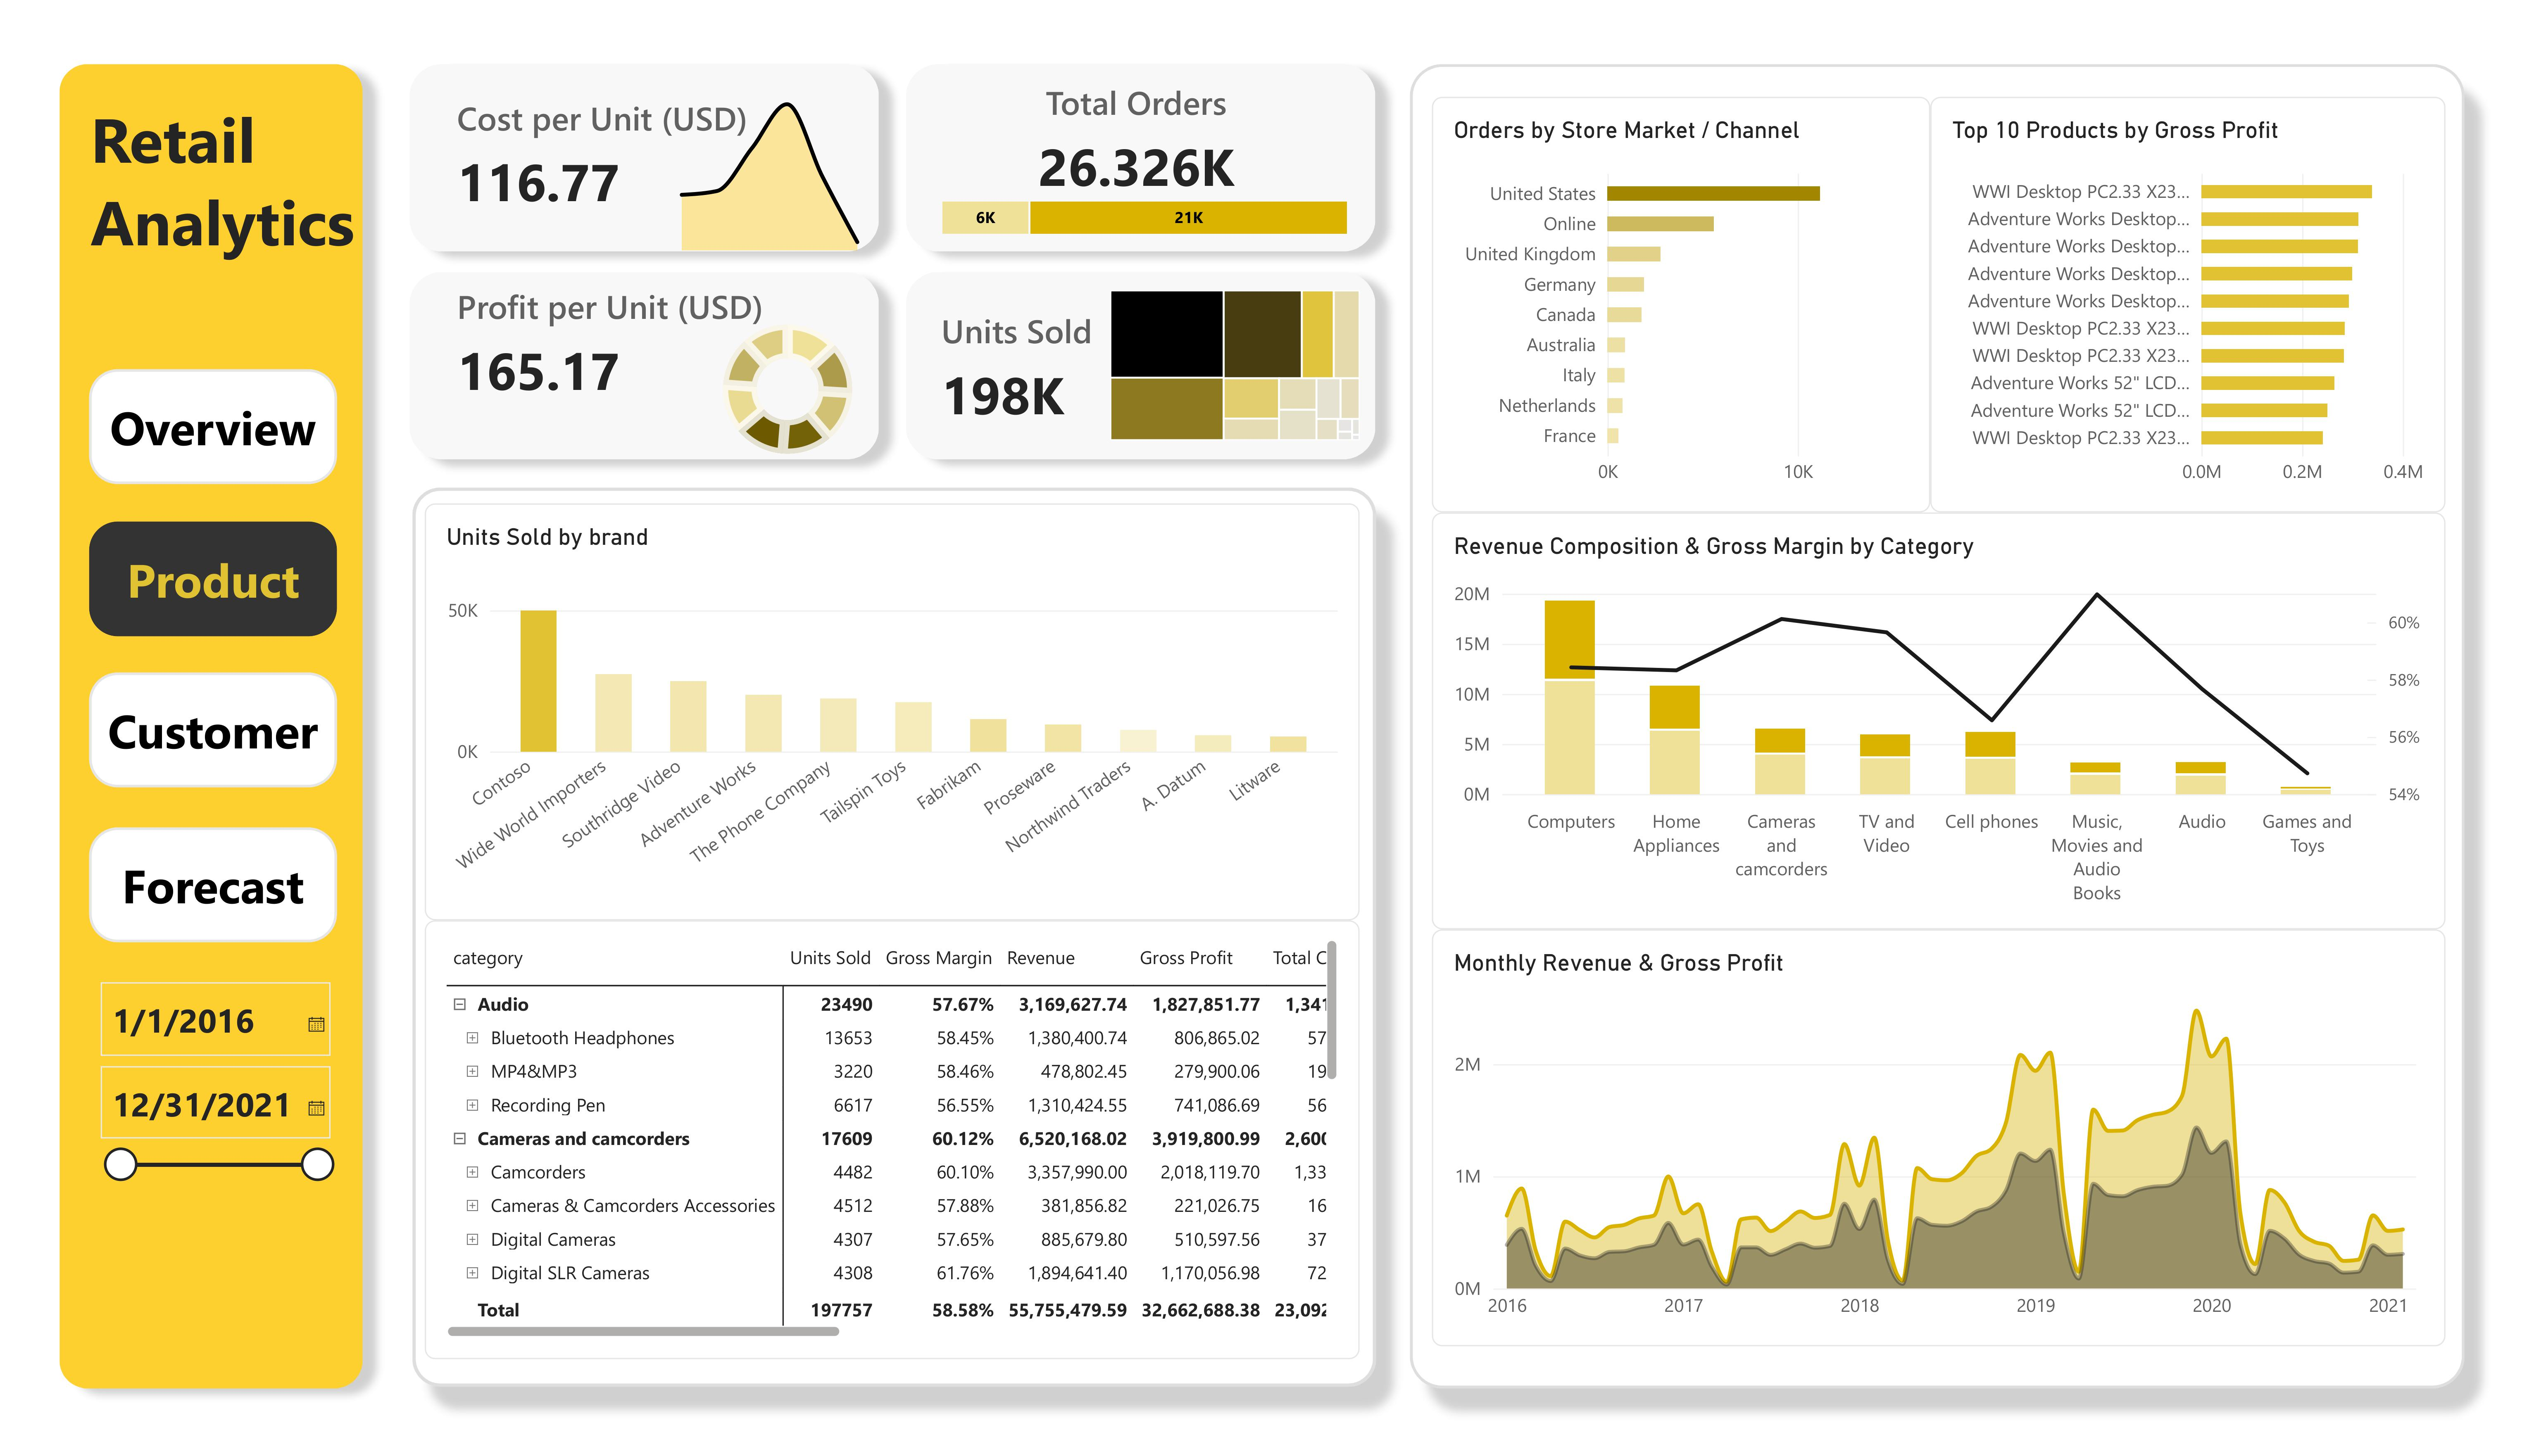

The dashboard page shown, as its layout file describes it:
{"tool":"powerbi","page":{"name":"Product ana","canvas":[1920,1080],"ordinal":1},"visuals":[{"type":"cardVisual","title":"Cost per Unit (USD)","fields":{"Data":["_Measures.cost per unit"]},"box":[314,50.6,326.2,92.4],"z":0},{"type":"cardVisual","fields":{"Data":["_Measures.Total Orders"]},"box":[753.5,31.4,205.8,104.7],"z":1000},{"type":"cardVisual","fields":{"Data":["_Measures.Profit per unit"]},"box":[314,200.6,298.3,83.7],"z":2000},{"type":"cardVisual","fields":{"Data":["_Measures.Units Sold"]},"box":[689,219.8,183.1,83.7],"z":3000},{"type":"clusteredBarChart","title":"Orders by Store Market / Channel","fields":{"Category":["dim_store.store_country"],"Y":["_Measures.Total Orders"]},"box":[1084.9,50.6,386,322],"z":4000},{"type":"clusteredColumnChart","fields":{"Category":["dim_product.brand"],"Y":["_Measures.Units Sold"]},"box":[305.2,366.3,723.8,322.7],"z":5000},{"type":"lineStackedColumnComboChart","title":"Revenue Composition & Gross Margin by Category","fields":{"Category":["dim_product.category"],"Y":["_Measures.Gross Profit","_Measures.Total Cost"],"Y2":["_Measures.Gross Margin"]},"box":[1084.9,373.3,784.9,322.7],"z":6000},{"type":"barChart","fields":{"Y":["_Measures.Total order_Online","_Measures.Total order_Physical channel"]},"box":[689.5,49.4,345.8,187.3],"z":7000},{"type":"treemap","fields":{"Group":["dim_product.color"],"Values":["_Measures.Units Sold"]},"box":[819.8,186.6,225,146.5],"z":8000},{"type":"lineChart","fields":{"Category":["DimDate.Date.Variation.Date Hierarchy.Year","DimDate.Date.Variation.Date Hierarchy.Quarter","DimDate.Date.Variation.Date Hierarchy.Month","DimDate.Date.Variation.Date Hierarchy.Day"],"Y":["_Measures.Revenue"]},"box":[477.9,22.7,188.4,164],"z":9000},{"type":"donutChart","fields":{"Category":["dim_product.category"],"Y":["_Measures.Gross Margin"]},"box":[477.9,200.6,216.3,155.2],"z":10000},{"type":"clusteredBarChart","title":"Top 10 Products by Gross Profit","fields":{"Category":["dim_product.product_name"],"Y":["_Measures.Gross Profit"]},"box":[1471,51,399,322],"z":11000},{"type":"pivotTable","fields":{"Rows":["dim_product.category","dim_product.subcategory","dim_product.product_name"],"Values":["_Measures.Units Sold","_Measures.Gross Margin","_Measures.Revenue","_Measures.Gross Profit","_Measures.Total Cost","_Measures.Units per Order","_Measures.Total Orders","_Measures.Profit per unit","_Measures.Cost per Unit"]},"box":[305.2,689,723.8,340.1],"z":12000},{"type":"lineChart","title":"Monthly Revenue & Gross Profit","fields":{"Category":["DimDate.MonthStart.Variation.Date Hierarchy.Year","DimDate.MonthStart.Variation.Date Hierarchy.Month"],"Y":["_Measures.Revenue","_Measures.Gross Profit"]},"box":[1084.9,695.9,784.9,322.7],"z":13000},{"type":"slicer","fields":{"Values":["DimDate.Date"]},"box":[46,732,192,170],"z":14000},{"type":"textbox","box":[46,50,214,150],"z":15000},{"type":"shape","title":"Product","box":[45.3,380.2,191.9,89],"z":16000},{"type":"shape","box":[45.3,497.1,191.9,89],"z":17000},{"type":"shape","box":[45.3,261.6,191.9,89],"z":18000},{"type":"shape","box":[45.3,617.4,191.9,89],"z":19000},{"type":"bookmarkNavigator","box":[0,0,600,50],"z":21000}]}

Visuals, with their boxes on the page's 1920x1080 design canvas (x1, y1, x2, y2). These are canvas units, not pixel positions in the 2541x1456 screenshot, which may show the page scaled, cropped or inside an application window:
"Cost per Unit (USD)" cardVisual: pyautogui.locateOnScreen(314, 51, 640, 143)
cardVisual - _Measures.Total Orders: pyautogui.locateOnScreen(754, 31, 959, 136)
cardVisual - _Measures.Profit per unit: pyautogui.locateOnScreen(314, 201, 612, 284)
cardVisual - _Measures.Units Sold: pyautogui.locateOnScreen(689, 220, 872, 304)
"Orders by Store Market / Channel" clusteredBarChart: pyautogui.locateOnScreen(1085, 51, 1471, 373)
clusteredColumnChart - dim_product.brand x _Measures.Units Sold: pyautogui.locateOnScreen(305, 366, 1029, 689)
"Revenue Composition & Gross Margin by Category" lineStackedColumnComboChart: pyautogui.locateOnScreen(1085, 373, 1870, 696)
barChart - _Measures.Total order_Online x _Measures.Total order_Physical channel: pyautogui.locateOnScreen(690, 49, 1035, 237)
treemap - dim_product.color x _Measures.Units Sold: pyautogui.locateOnScreen(820, 187, 1045, 333)
lineChart - DimDate.Date.Variation.Date Hierarchy.Year x DimDate.Date.Variation.Date Hierarchy.Quarter: pyautogui.locateOnScreen(478, 23, 666, 187)
donutChart - dim_product.category x _Measures.Gross Margin: pyautogui.locateOnScreen(478, 201, 694, 356)
"Top 10 Products by Gross Profit" clusteredBarChart: pyautogui.locateOnScreen(1471, 51, 1870, 373)
pivotTable - dim_product.category x dim_product.subcategory: pyautogui.locateOnScreen(305, 689, 1029, 1029)
"Monthly Revenue & Gross Profit" lineChart: pyautogui.locateOnScreen(1085, 696, 1870, 1019)
slicer - DimDate.Date: pyautogui.locateOnScreen(46, 732, 238, 902)
textbox: pyautogui.locateOnScreen(46, 50, 260, 200)
"Product" shape: pyautogui.locateOnScreen(45, 380, 237, 469)
shape: pyautogui.locateOnScreen(45, 497, 237, 586)
shape: pyautogui.locateOnScreen(45, 262, 237, 351)
shape: pyautogui.locateOnScreen(45, 617, 237, 706)
bookmarkNavigator: pyautogui.locateOnScreen(0, 0, 600, 50)
